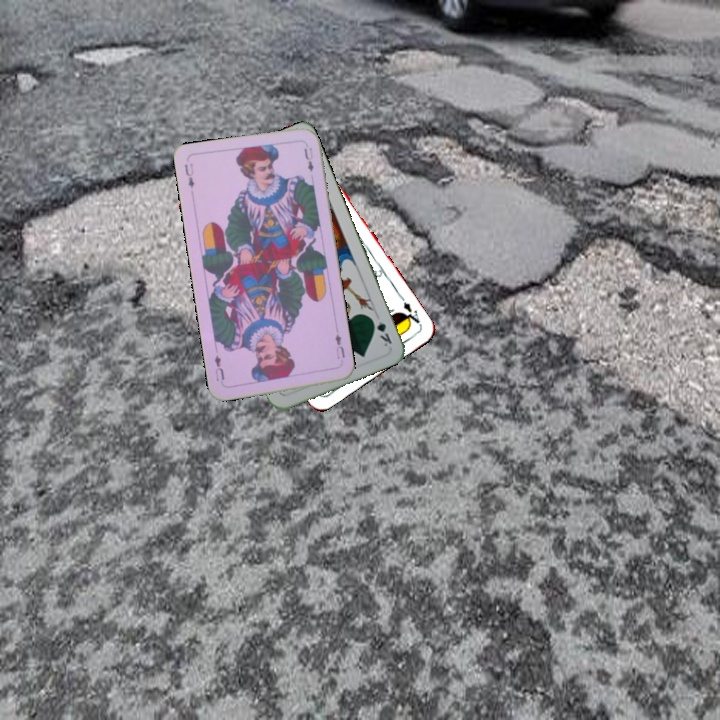EA: (398, 298, 423, 328)
EU: (180, 159, 197, 190), (331, 330, 347, 361)
GK: (367, 313, 394, 349)
